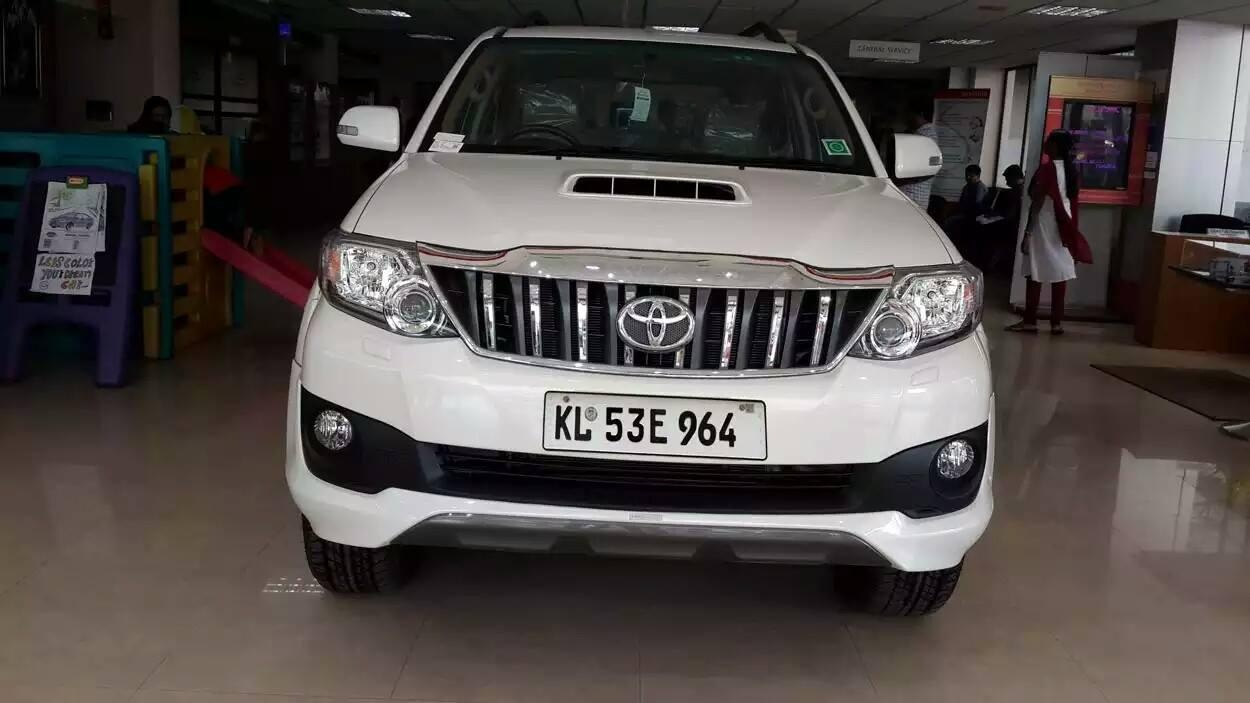number_plate: (543, 390, 769, 461)
